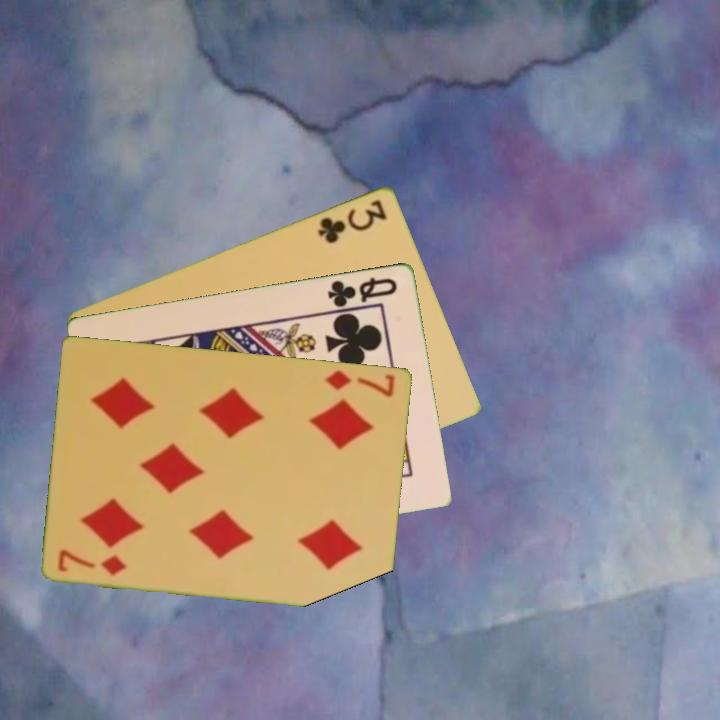3c: (314, 195, 390, 246)
7d: (322, 366, 398, 400), (55, 545, 131, 578)
Qc: (324, 273, 401, 310)
